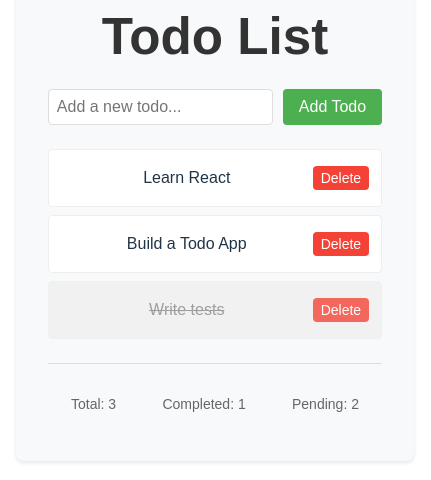
Test: TodoList Component › toggles todo completion status when clicked
This screenshot has width=431, height=480.
Note: Click to toggle
Click the text with test id "todo-text-1" at (187, 178), box [143,169,230,186]
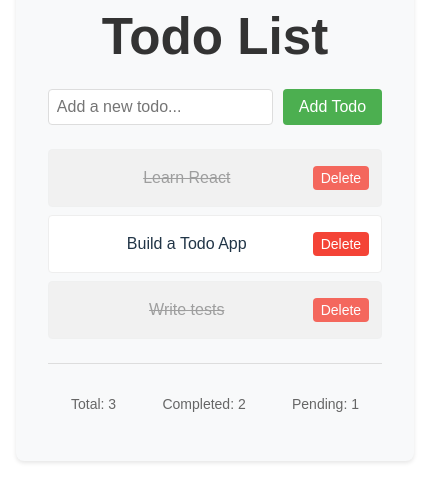
Result: the text "Completed: 2" is shown at [162,394,246,415]
Result: the text "Pending: 1" is shown at [292,394,359,415]
Note: Click again to toggle back
Click the text with test id "todo-text-1" at (187, 178), box [143,169,230,186]
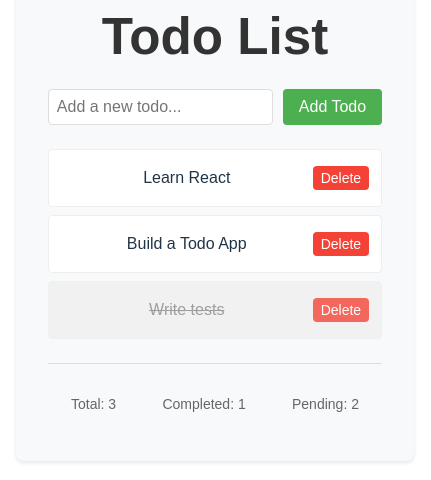
Result: the text "Completed: 1" is shown at [162,394,246,415]
Result: the text "Pending: 2" is shown at [292,394,359,415]
